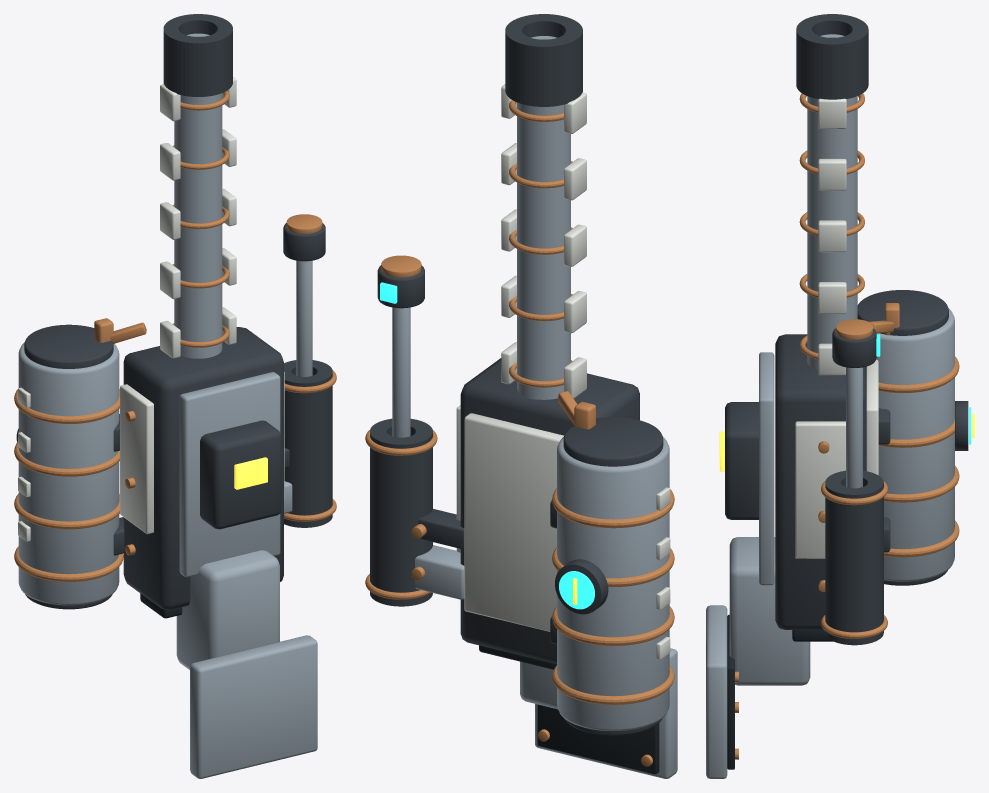
File: M01-012_pneumatic_bolt_launcher_animated.glb
3 renders of one model, left to right at view 1: azimuth 30°, elevation 25°; view 2: azimuth 150°, elevation 25°; view 3: azimuth 270°, elevation 25°, orthographic. The views are drawn at different scales.
Parts seen in each view (by area): view 1: Pressure_Tank, Socket_Flange, Receiver, Bored_Bolt_Barrel, Receiver_Belly, Riser_Core, Lower_Magazine, Piston_Cylinder_Hollow, Muzzle_Brake, Receiver_Side_Armor_L, Tank_Front_Cap, Ram_Chrome_Rod (+12 smaller); view 2: Pressure_Tank, Receiver_Ceramic_Top, Bored_Bolt_Barrel, Receiver, Piston_Cylinder_Hollow, Muzzle_Brake, Socket_Seal, Tank_Front_Cap, Ram_Chrome_Rod, Socket_Flange, Piston_Support_Inner, Riser_Core (+17 smaller); view 3: Pressure_Tank, Receiver, Piston_Cylinder_Hollow, Bored_Bolt_Barrel, Riser_Core, Muzzle_Brake, Receiver_Side_Armor_R, Lower_Magazine, Socket_Flange, Receiver_Belly, Tank_Front_Cap, Ram_Chrome_Rod (+16 smaller).
Boxes of the visible parts, x1,y1,x2,y2 form: Pressure_Tank: [18, 342, 119, 605]; Socket_Flange: [190, 635, 317, 778]; Receiver: [123, 327, 283, 609]; Bored_Bolt_Barrel: [174, 33, 222, 358]; Receiver_Belly: [179, 372, 280, 577]; Riser_Core: [176, 550, 279, 669]; Lower_Magazine: [200, 420, 281, 529]; Piston_Cylinder_Hollow: [284, 360, 332, 527]; Muzzle_Brake: [163, 14, 232, 96]; Receiver_Side_Armor_L: [120, 384, 153, 534]; Tank_Front_Cap: [24, 324, 113, 368]; Ram_Chrome_Rod: [296, 260, 312, 376]; Pressure_Tank: [557, 437, 669, 731]; Receiver_Ceramic_Top: [464, 413, 563, 631]; Bored_Bolt_Barrel: [517, 36, 570, 399]; Receiver: [460, 358, 639, 664]; Piston_Cylinder_Hollow: [370, 418, 432, 606]; Muzzle_Brake: [505, 14, 582, 106]; Socket_Seal: [537, 704, 659, 774]; Tank_Front_Cap: [563, 417, 663, 466]; Ram_Chrome_Rod: [392, 307, 410, 437]; Socket_Flange: [535, 648, 677, 778]; Piston_Support_Inner: [415, 545, 464, 599]; Riser_Core: [520, 661, 557, 709]; Pressure_Tank: [876, 308, 954, 581]; Receiver: [775, 334, 866, 629]; Piston_Cylinder_Hollow: [825, 470, 883, 645]; Bored_Bolt_Barrel: [807, 34, 857, 370]; Riser_Core: [729, 537, 810, 685]; Muzzle_Brake: [796, 14, 868, 99]; Receiver_Side_Armor_R: [795, 421, 845, 558]; Lower_Magazine: [725, 402, 758, 519]; Socket_Flange: [706, 605, 727, 778]; Receiver_Belly: [759, 352, 774, 585]; Tank_Front_Cap: [857, 290, 948, 335]; Ram_Chrome_Rod: [846, 367, 862, 488].
Bounding box in the file's own units: 0.813 × 1.87 × 0.632.
